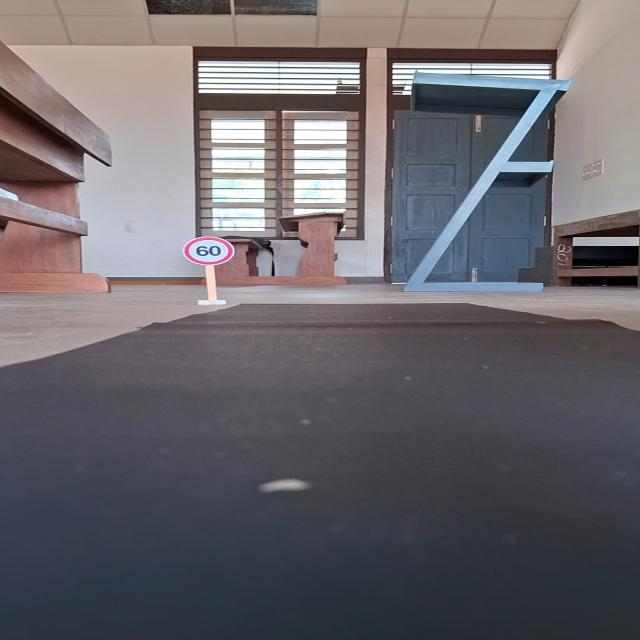Speed60: (183, 236, 236, 266)
